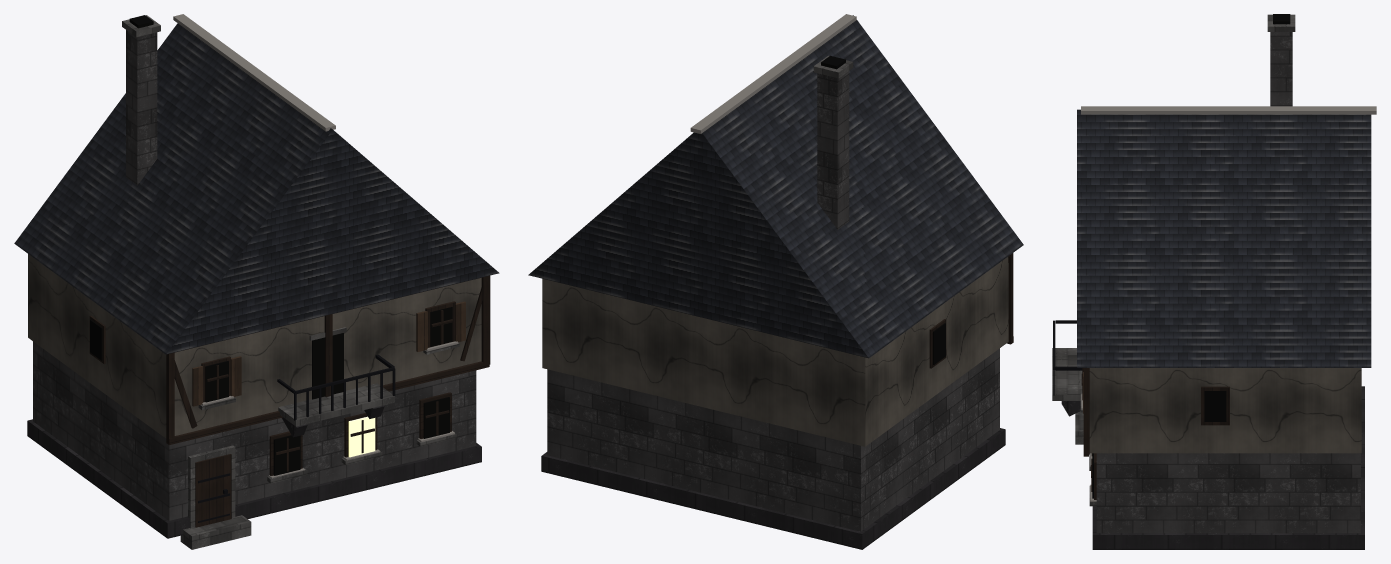
The model's file is CasaB04.gltf.
The picture shows the model from 3 angles, left to right: view 1: azimuth 30°, elevation 25°; view 2: azimuth 150°, elevation 25°; view 3: azimuth 270°, elevation 25°; orthographic projection. The views are drawn at different scales.
Parts seen in each view (by area): view 1: CasaB04; view 2: CasaB04; view 3: CasaB04.
Boxes of the visible parts, x1=… form: CasaB04: x1=14, y1=14, x2=499, y2=549; CasaB04: x1=528, y1=14, x2=1023, y2=549; CasaB04: x1=1052, y1=14, x2=1376, y2=549.
Bounding box in the file's own units: 12.2 × 15.3 × 10.58.
Materials: 11 (7 with a texture image).
